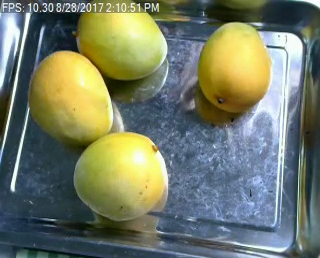Mango: (27, 48, 113, 147), (75, 131, 166, 216), (76, 0, 168, 78), (201, 22, 270, 112)
